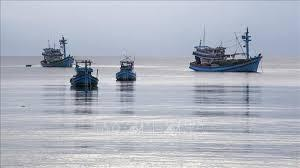Ship: (191, 29, 263, 73), (43, 37, 75, 68), (71, 61, 99, 91), (117, 57, 136, 82)
